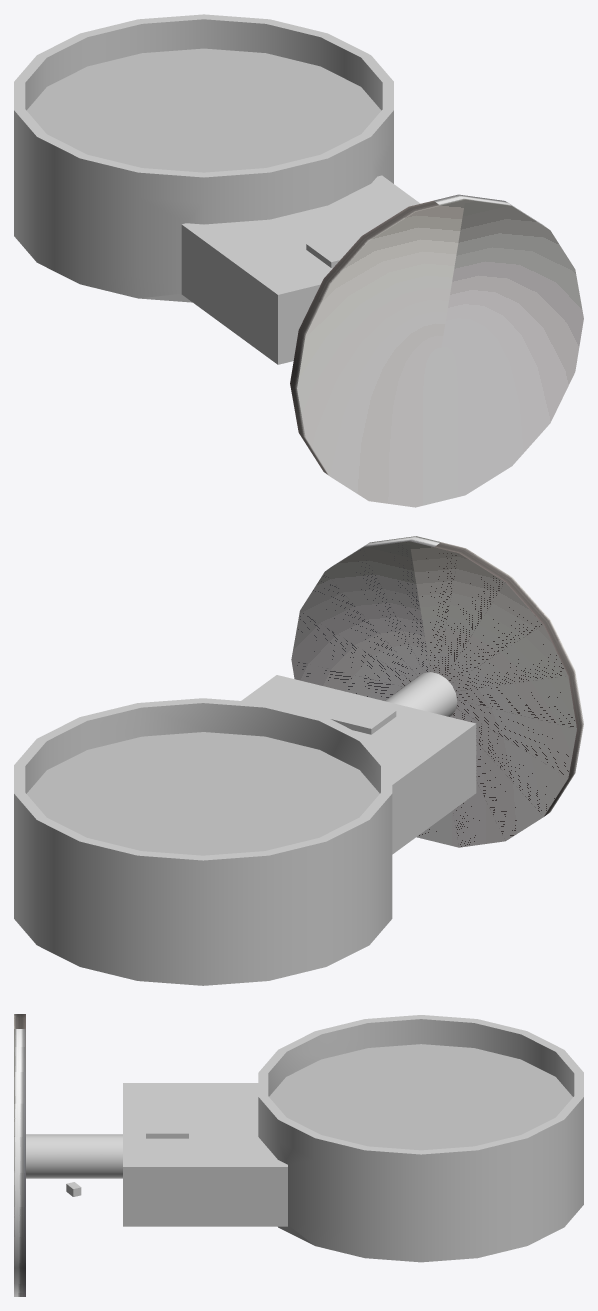
File: 红闪灯.glb
3 views of the same model, one above another, from view 1: azimuth 30°, elevation 25°; view 2: azimuth 150°, elevation 25°; view 3: azimuth 270°, elevation 25° (orthographic). The views are drawn at different scales.
Visible parts, largest first — view 1: Cylinder004, Cylinder001, Cylinder002, Box001; view 2: Cylinder001, Cylinder004, Cylinder002, Cylinder003, Box001; view 3: Cylinder001, Cylinder002, Cylinder003, Cylinder004, Box001.
Boxes of the visible parts, x1,y1,x2,y2 form: Cylinder004: (290, 194, 583, 507); Cylinder001: (14, 14, 420, 364); Cylinder002: (26, 48, 381, 172); Box001: (306, 227, 373, 267); Cylinder001: (14, 675, 476, 985); Cylinder004: (291, 536, 583, 847); Cylinder002: (27, 732, 379, 855); Cylinder003: (385, 672, 457, 716); Box001: (306, 694, 396, 734); Cylinder001: (123, 1015, 583, 1262); Cylinder002: (269, 1044, 572, 1150); Cylinder003: (26, 1134, 122, 1178); Cylinder004: (14, 1014, 25, 1296); Box001: (146, 1105, 188, 1138).
Bounding box in the file's own units: 0.1 × 0.0846 × 0.1724.
Materials: 3 (1 with a texture image).
